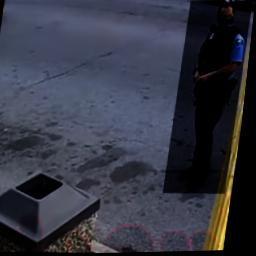nonspitting: (167, 1, 254, 197)
